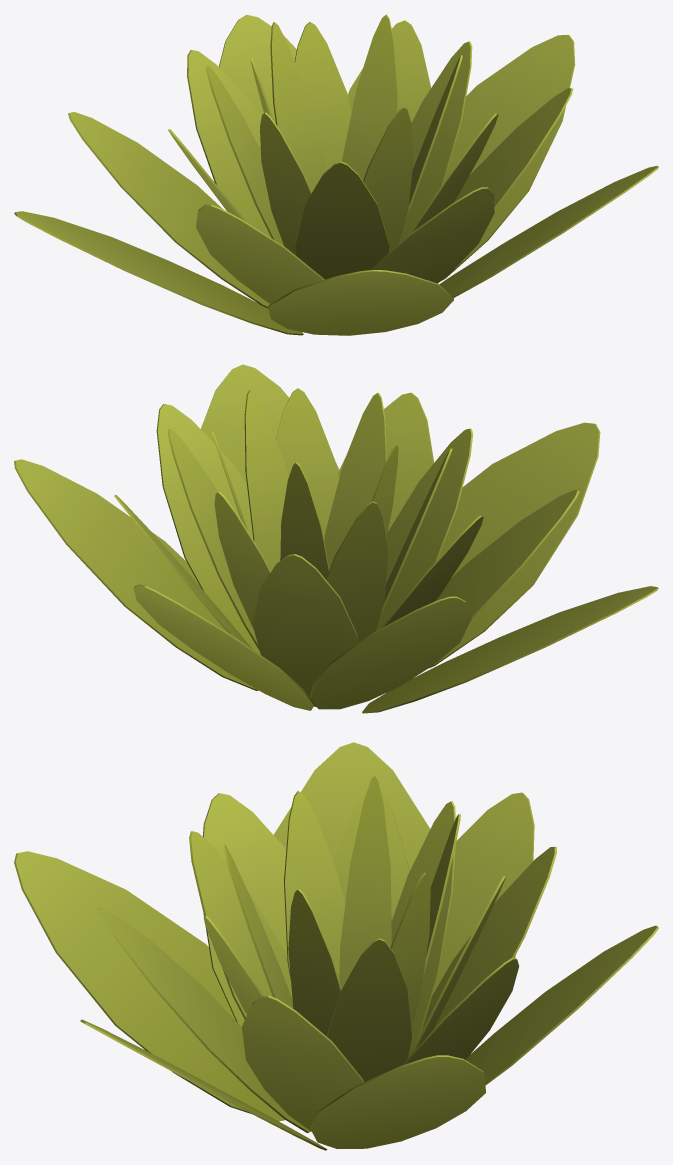
The model's file is grass.fbx.
The picture shows the model from 3 angles, top to bottom: view 1: azimuth 30°, elevation 25°; view 2: azimuth 150°, elevation 25°; view 3: azimuth 270°, elevation 25°; orthographic projection. The views are drawn at different scales.
Parts seen in each view (by area): view 1: grass; view 2: grass; view 3: grass.
Part boxes in pixels (left/top/right/bottom): grass: left=14, top=14, right=658, bottom=335; grass: left=14, top=364, right=658, bottom=713; grass: left=14, top=742, right=658, bottom=1150.
Size of the model in its own units: 3.14 by 1.4 by 2.63.
1 material, 1 textured.
